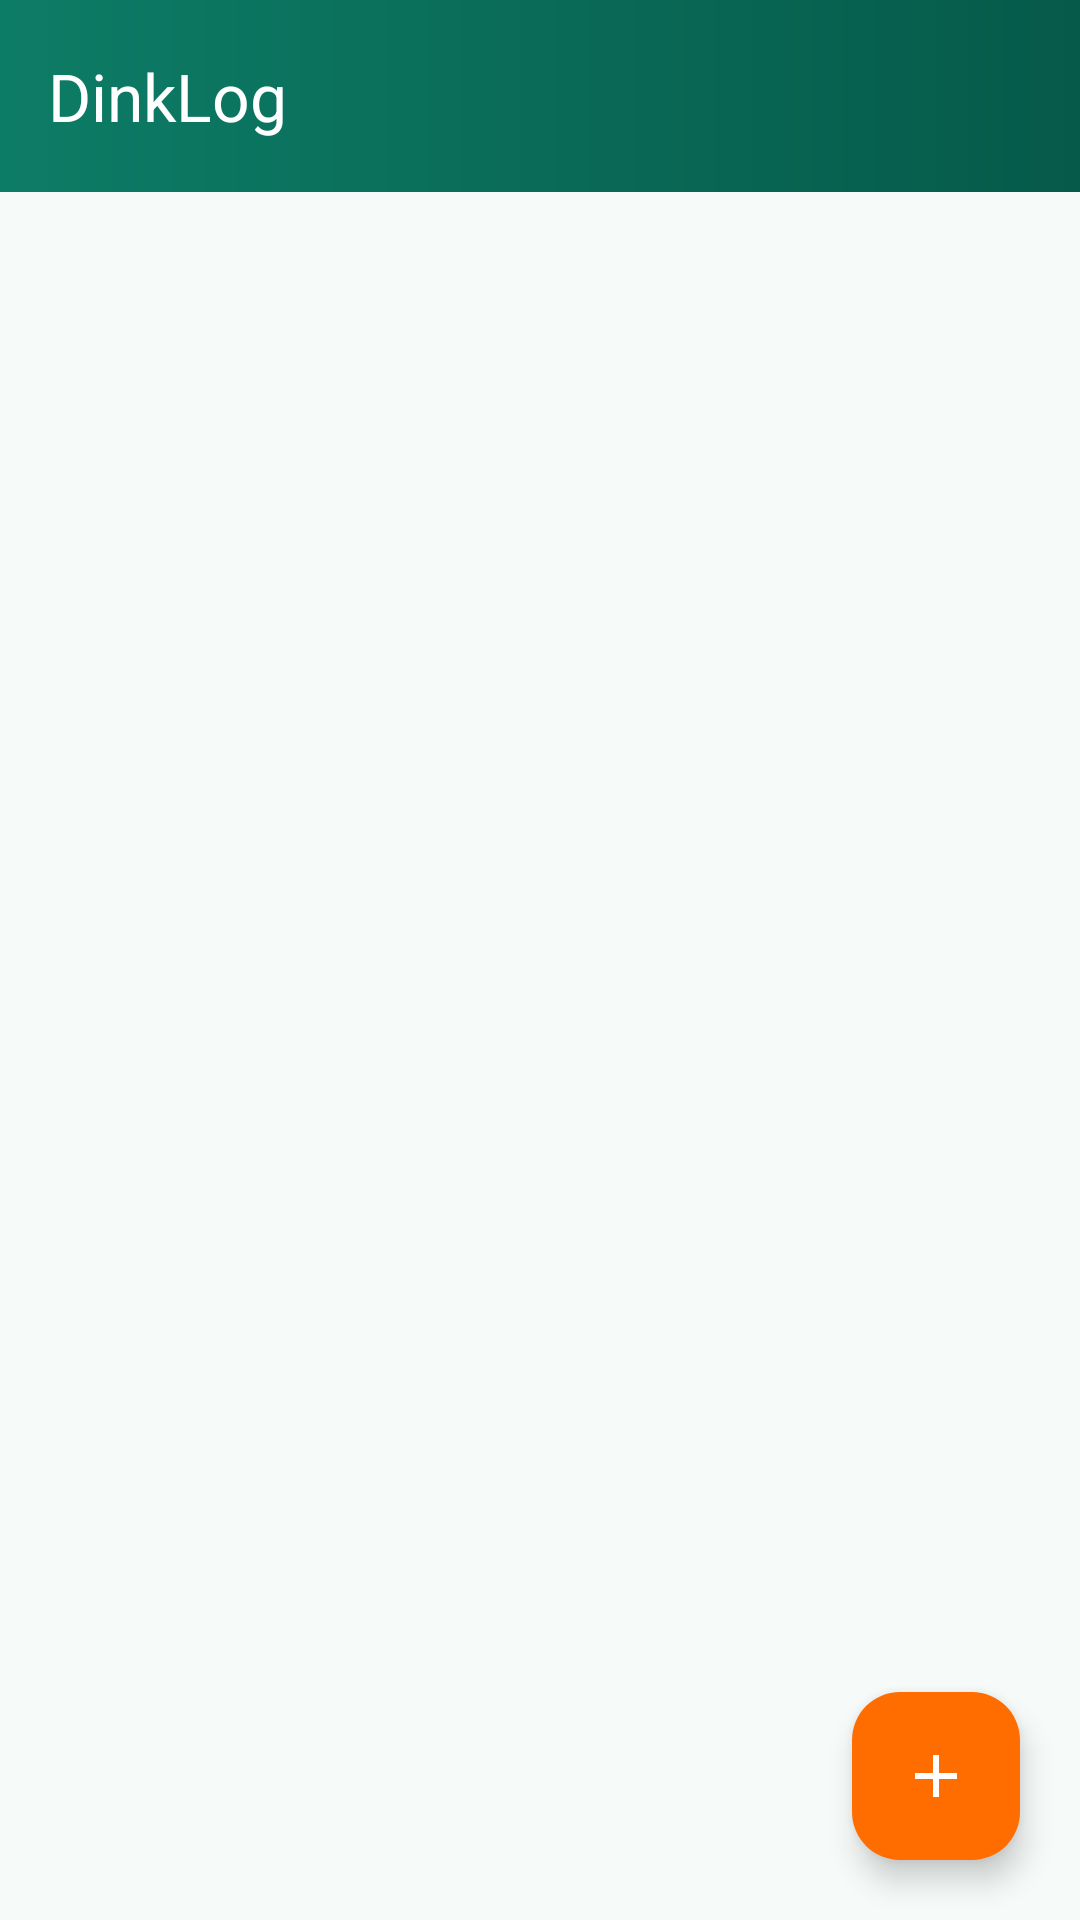

Named icons in this screenshot (1080px×1920px) and their bounding boxes, (x1, y1, x2, y2):
Add match: (852, 1692, 1020, 1860)
